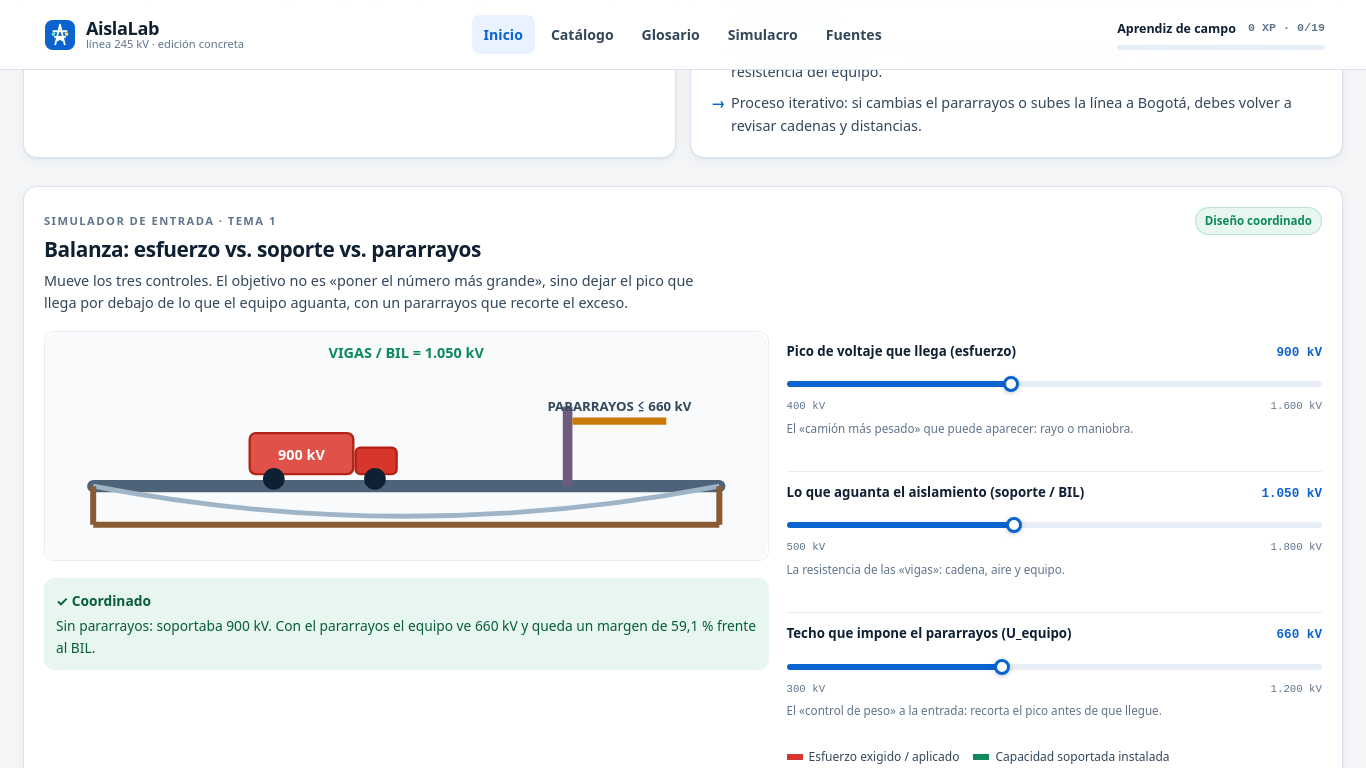
Test: interacciones concretas › el mini-simulador del Tema 1 reacciona al esfuerzo y al pararrayos
(page scrolled)
Expected: the text "Diseño coordinado" is shown, [1195,207,1322,235]
Set the slider labelled "Pico de voltaje que llega" to "1500" at {"x": 1271, "y": 384}, box [786,381,1322,387]
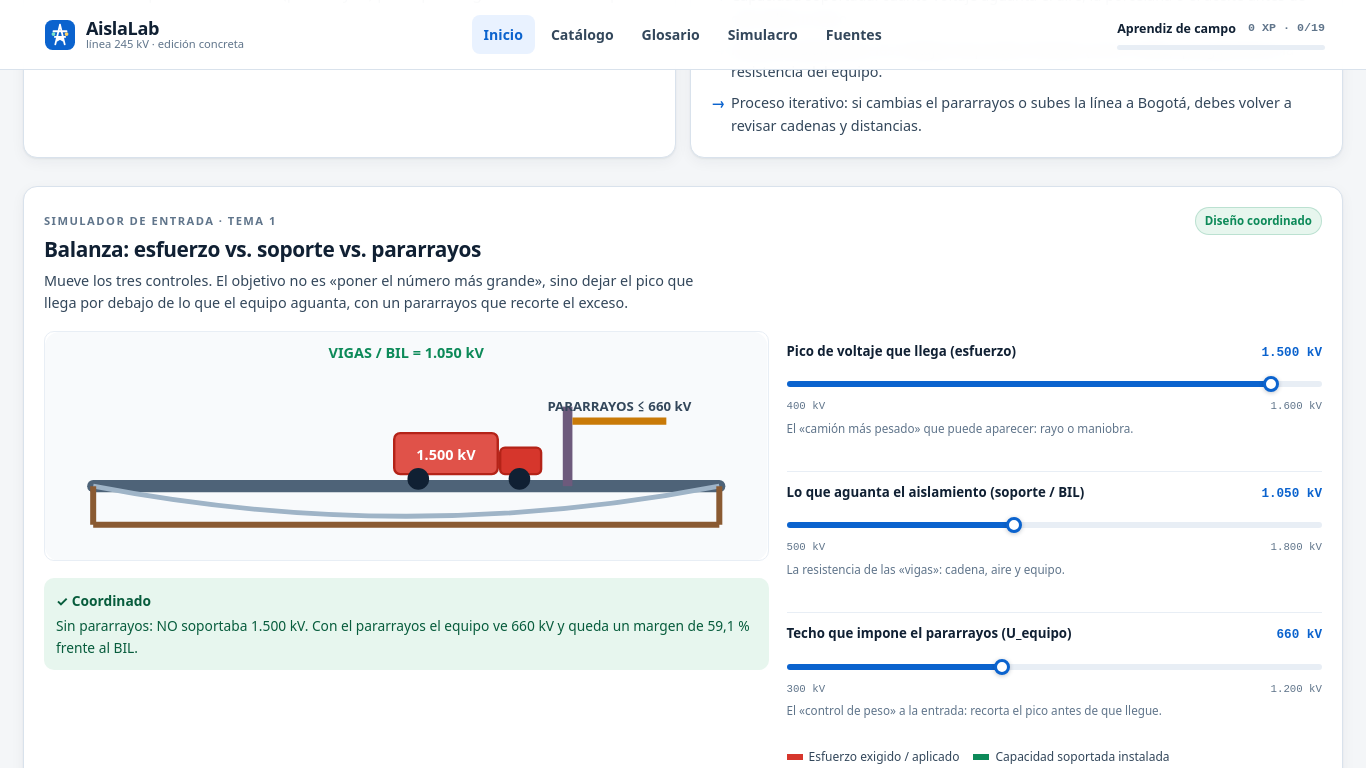
Set the slider labelled "Techo que impone el pararrayos" to "1200" at {"x": 1314, "y": 667}, box [786,664,1322,670]
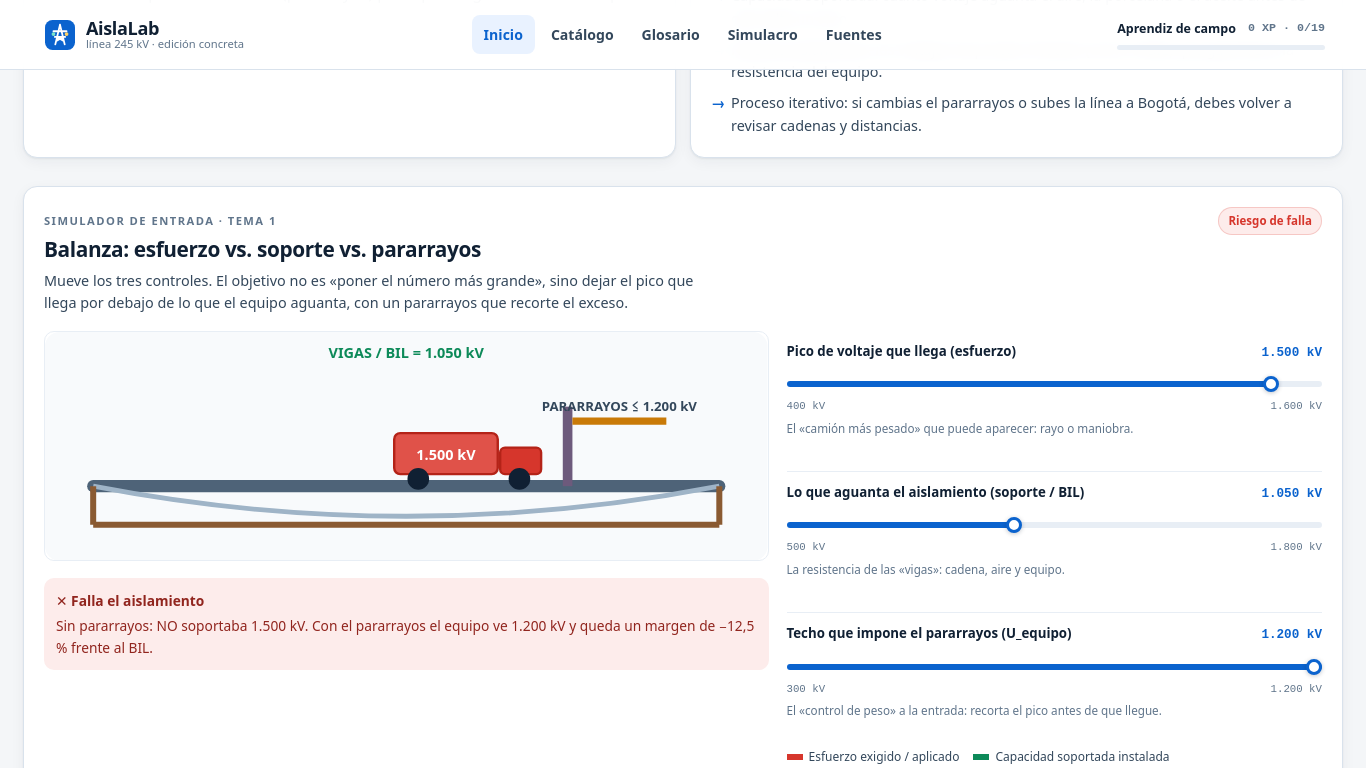
Now the text "Sin pararrayos: NO soportaba 1.500 kV" is shown, box [56,616,756,658]
Now the text "Riesgo de falla" is shown, box [1218,207,1322,235]
